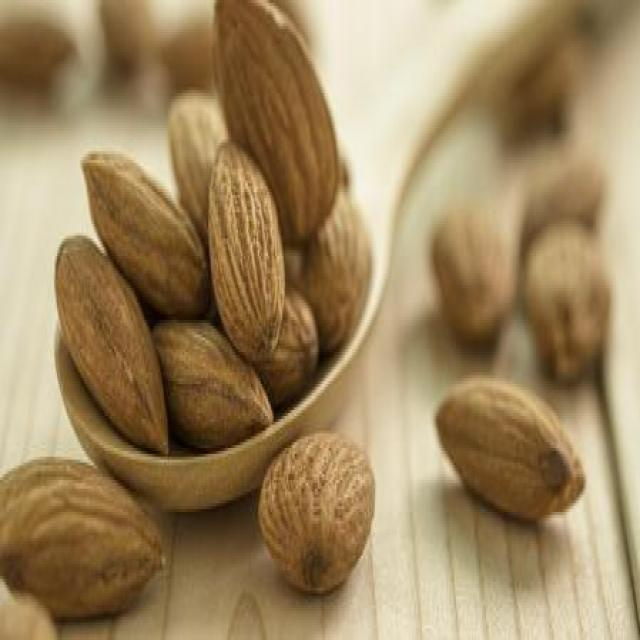almond: (210, 0, 345, 248), (0, 450, 170, 615), (57, 233, 170, 457), (79, 148, 214, 320), (432, 375, 587, 522), (260, 428, 375, 595), (208, 137, 287, 360), (159, 310, 274, 452)
